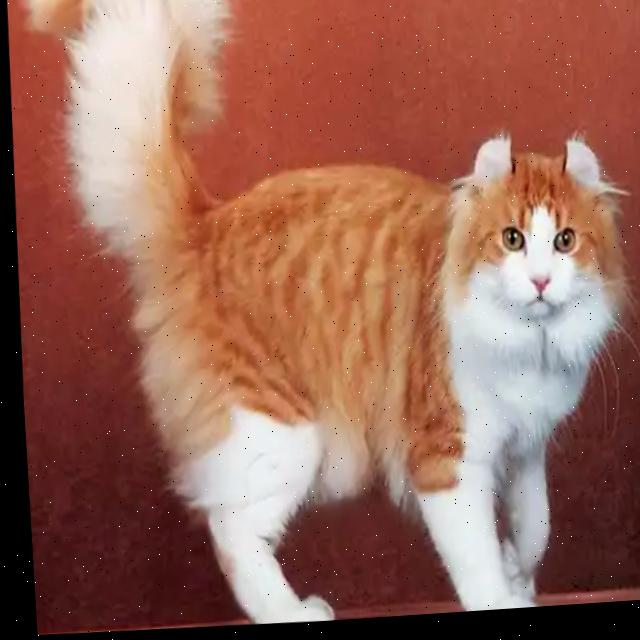American Curl: (9, 0, 640, 640)
